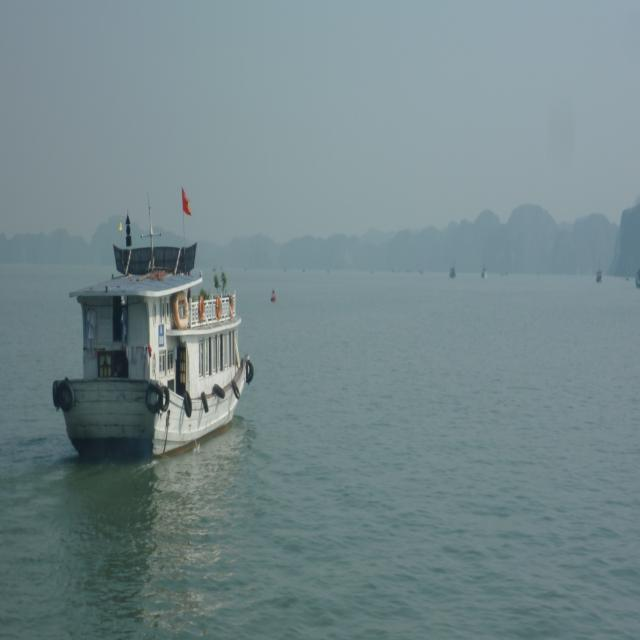fishing boat: (52, 223, 254, 465)
